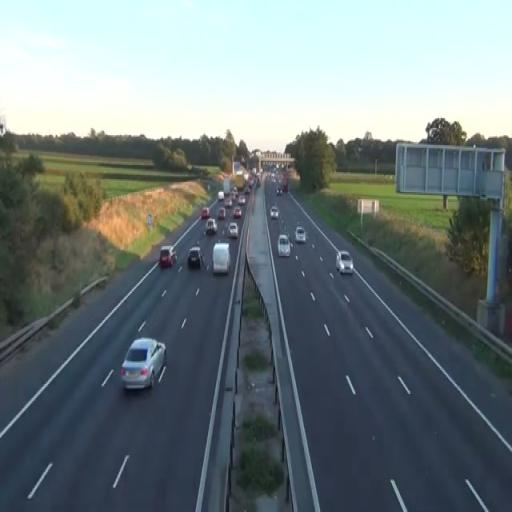Car: (120, 337, 167, 391), (212, 243, 231, 275), (335, 250, 354, 274), (160, 244, 177, 268), (187, 246, 203, 269), (277, 234, 290, 258), (205, 218, 217, 236), (295, 226, 306, 243), (228, 222, 238, 239), (270, 206, 280, 221), (201, 205, 210, 219), (232, 208, 243, 219), (218, 208, 226, 220)
